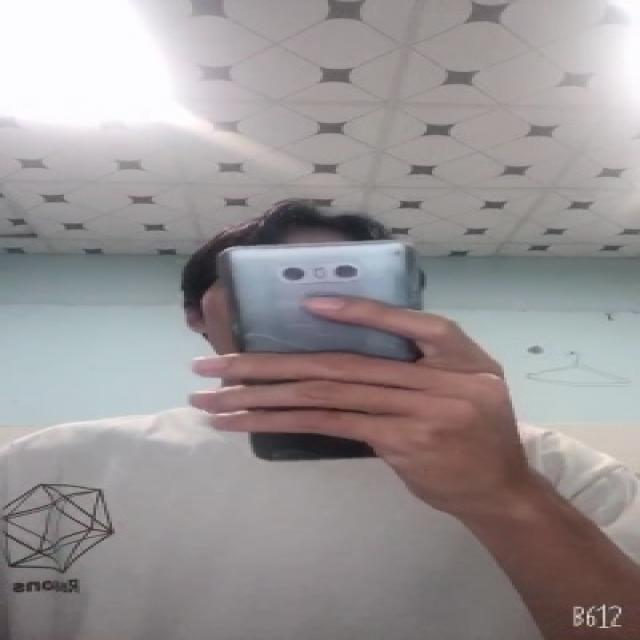Phone: (214, 236, 424, 464)
